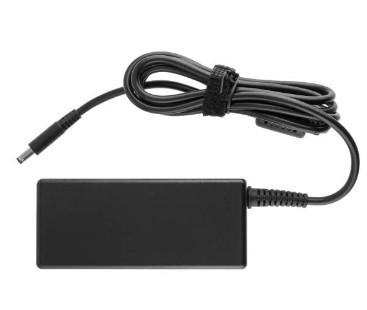cable: (17, 53, 360, 269)
